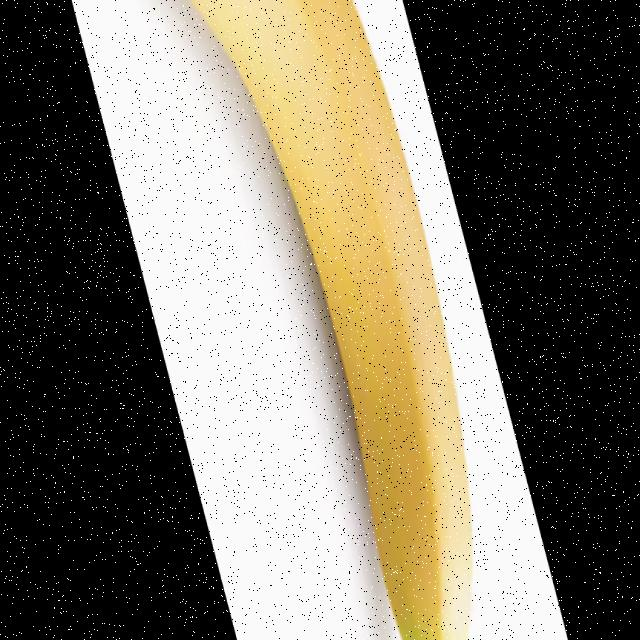god quality banana: (195, 0, 472, 638)
